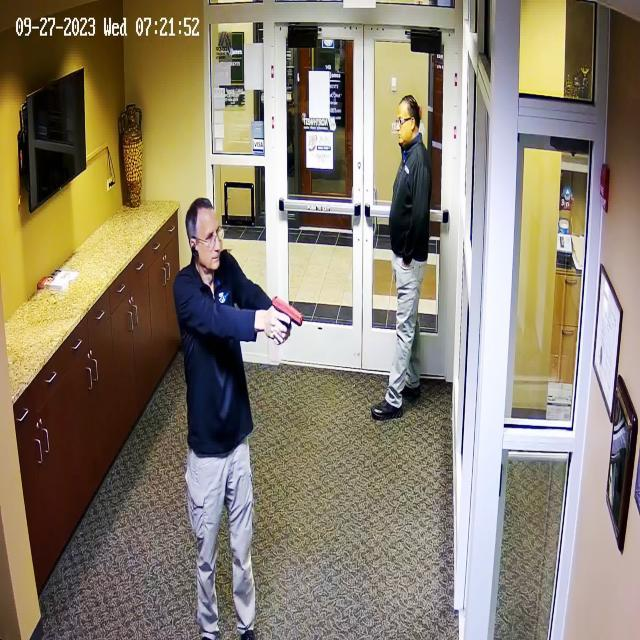Gun: (265, 292, 313, 338)
